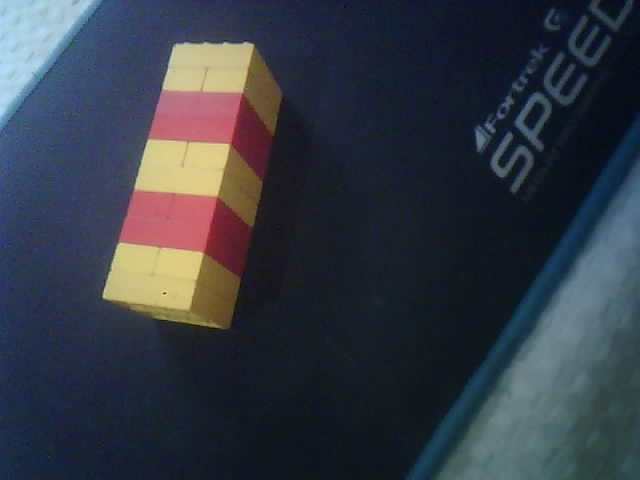lego: (99, 41, 284, 333)
